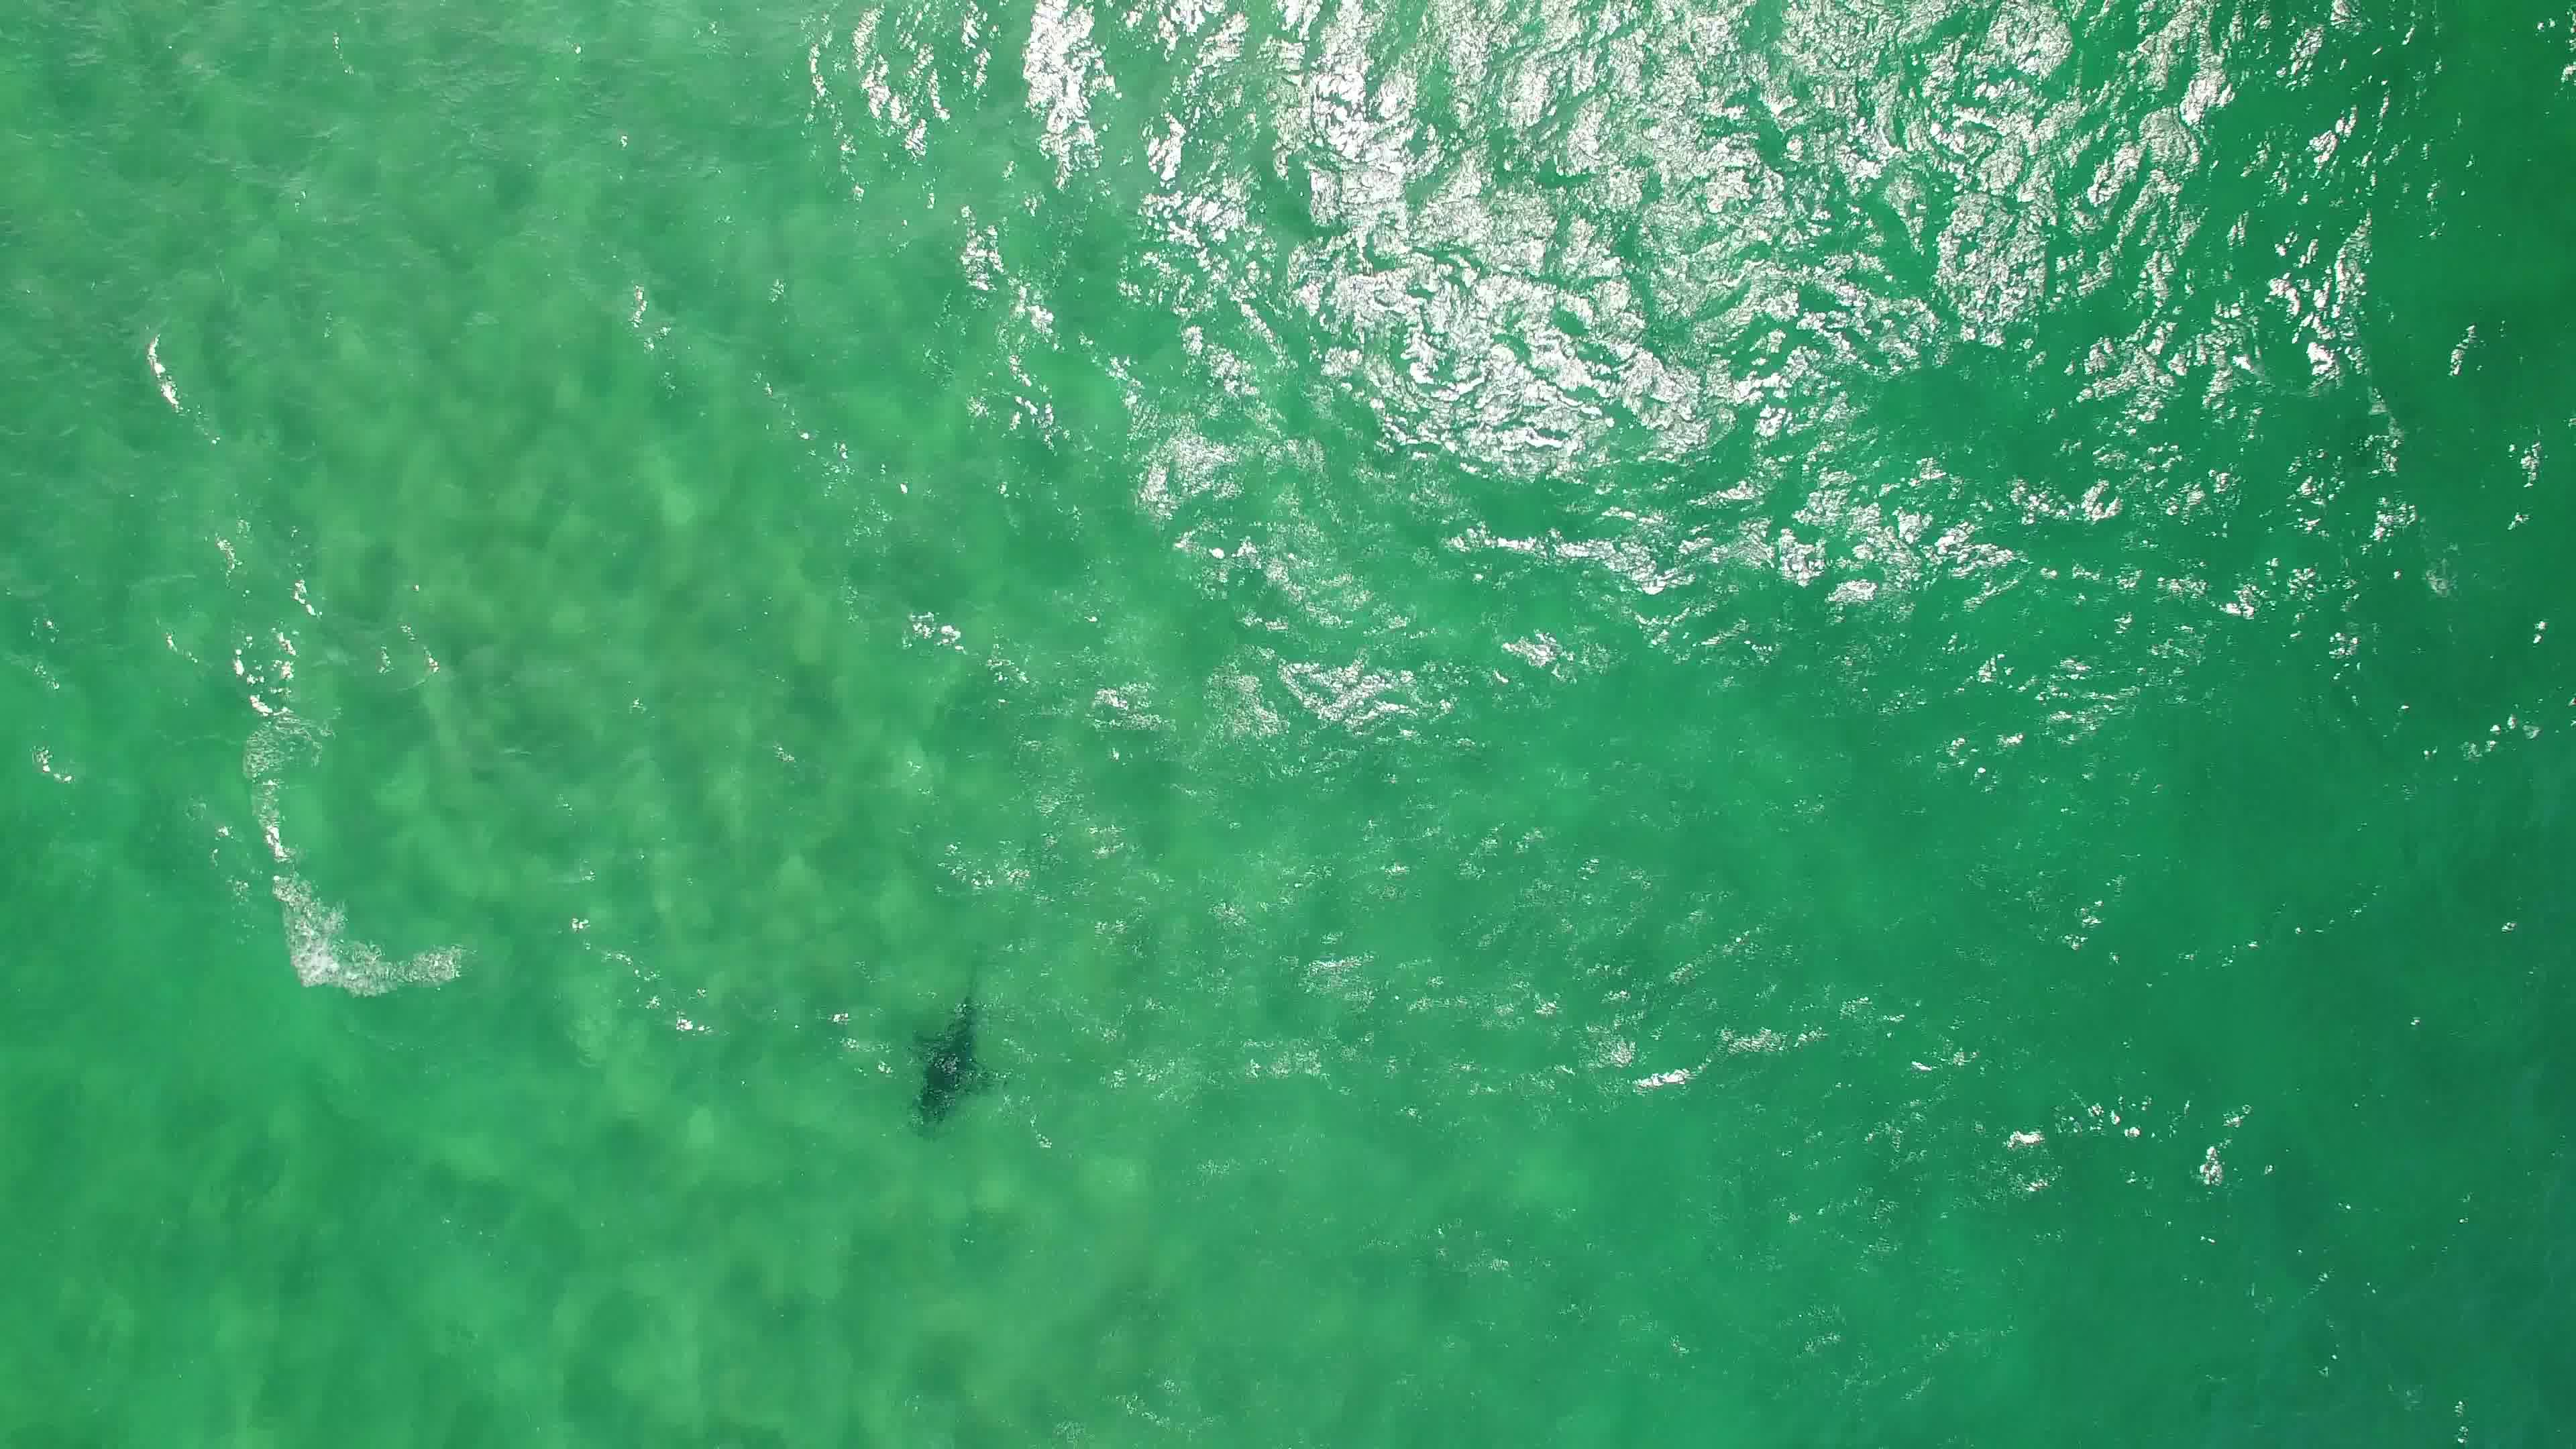shark: (904, 987, 1005, 1136)
